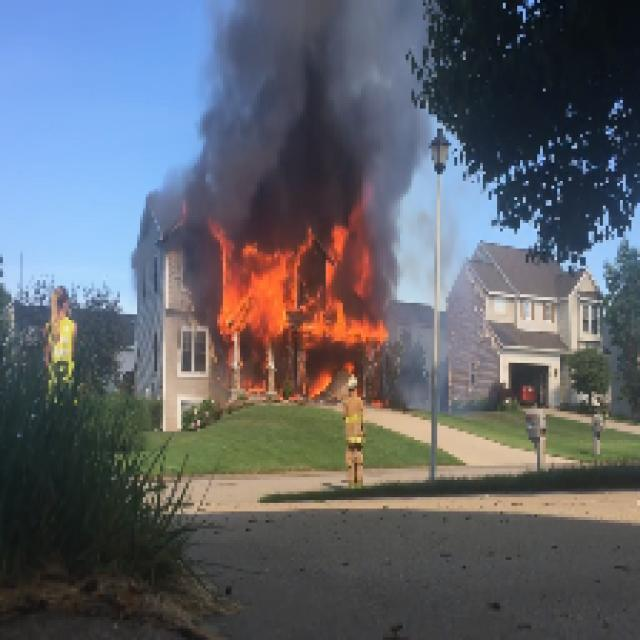Fire: (220, 220, 366, 337)
Smoke: (197, 2, 426, 178), (377, 185, 432, 318)
